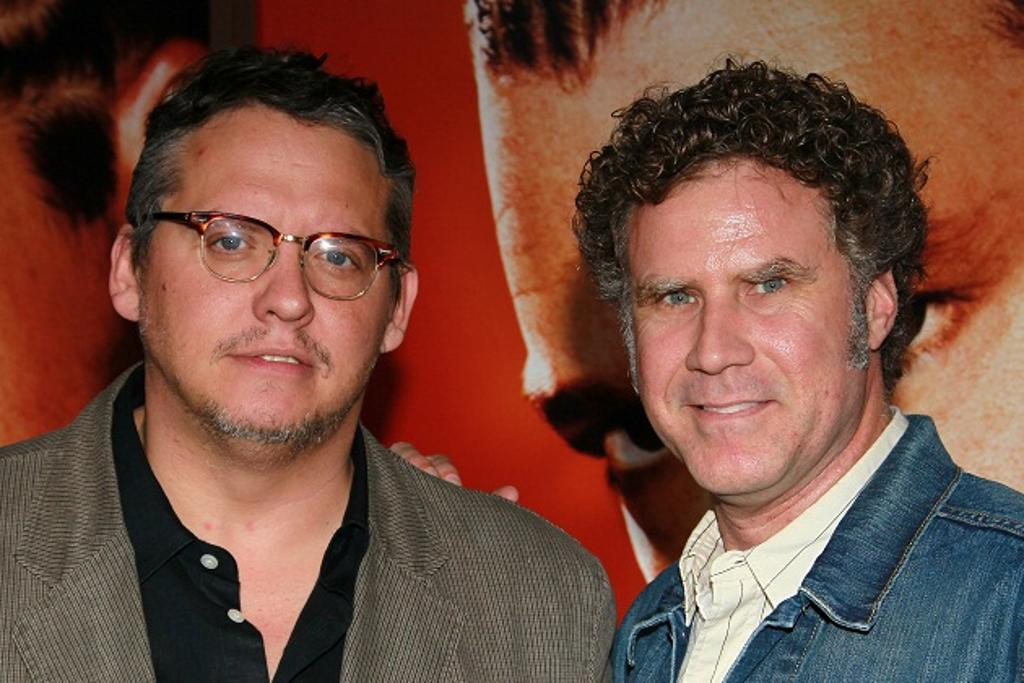face: (618, 148, 862, 496), (162, 96, 386, 430)
